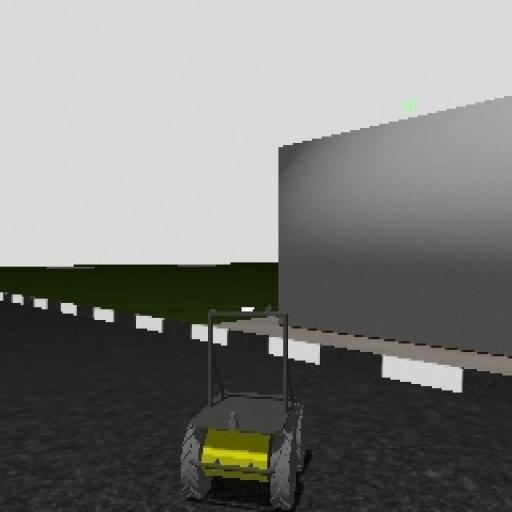huskya200: (166, 278, 328, 512)
